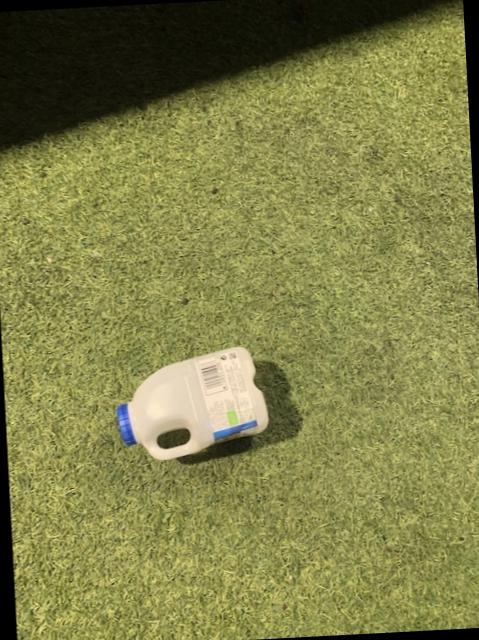plastic: (118, 349, 269, 460)
